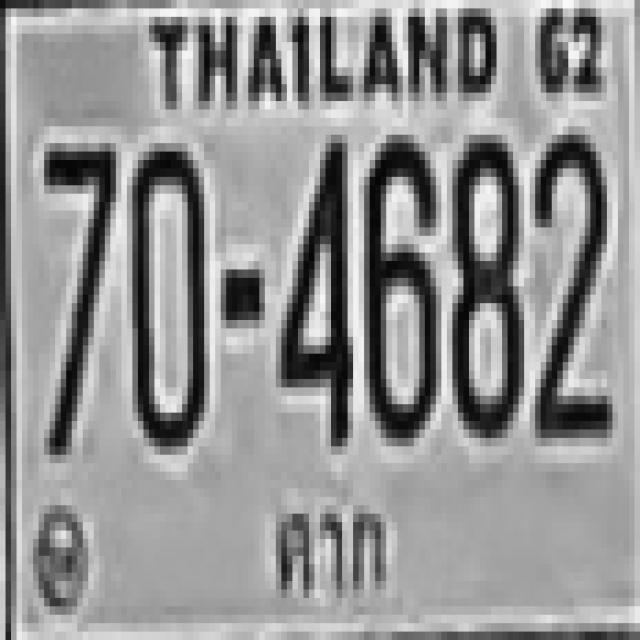0: (127, 135, 204, 438)
2: (530, 126, 607, 421)
4: (276, 131, 347, 442)
6: (358, 135, 436, 438)
7: (39, 139, 110, 442), (39, 139, 110, 349), (39, 139, 110, 324)
8: (447, 126, 519, 430)
Tak: (263, 482, 405, 621)
